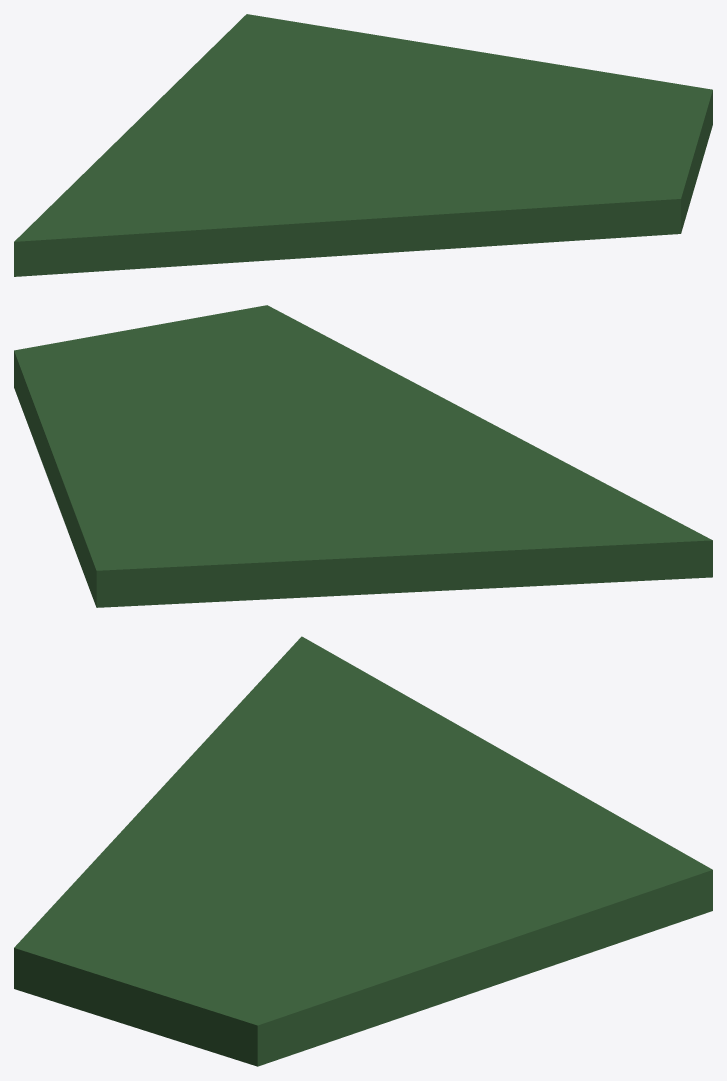
File: x_proval_00_214_1_rmstrd.fbx
The picture shows the model from 3 angles, top to bottom: view 1: azimuth 30°, elevation 25°; view 2: azimuth 150°, elevation 25°; view 3: azimuth 270°, elevation 25°; orthographic projection. The views are drawn at different scales.
Parts seen in each view (by area): view 1: x_proval_00_214_1_rmstrd1; view 2: x_proval_00_214_1_rmstrd1; view 3: x_proval_00_214_1_rmstrd1.
Boxes of the visible parts, x1,y1,x2,y2 form: x_proval_00_214_1_rmstrd1: [14, 14, 712, 276]; x_proval_00_214_1_rmstrd1: [14, 305, 712, 607]; x_proval_00_214_1_rmstrd1: [14, 636, 712, 1066].
Size of the model in its own units: 4.06 by 0.2 by 3.08.
